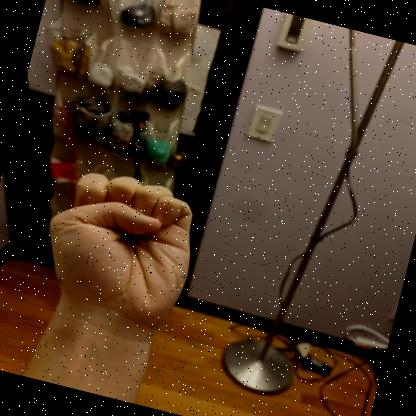E: (49, 173, 192, 337)
